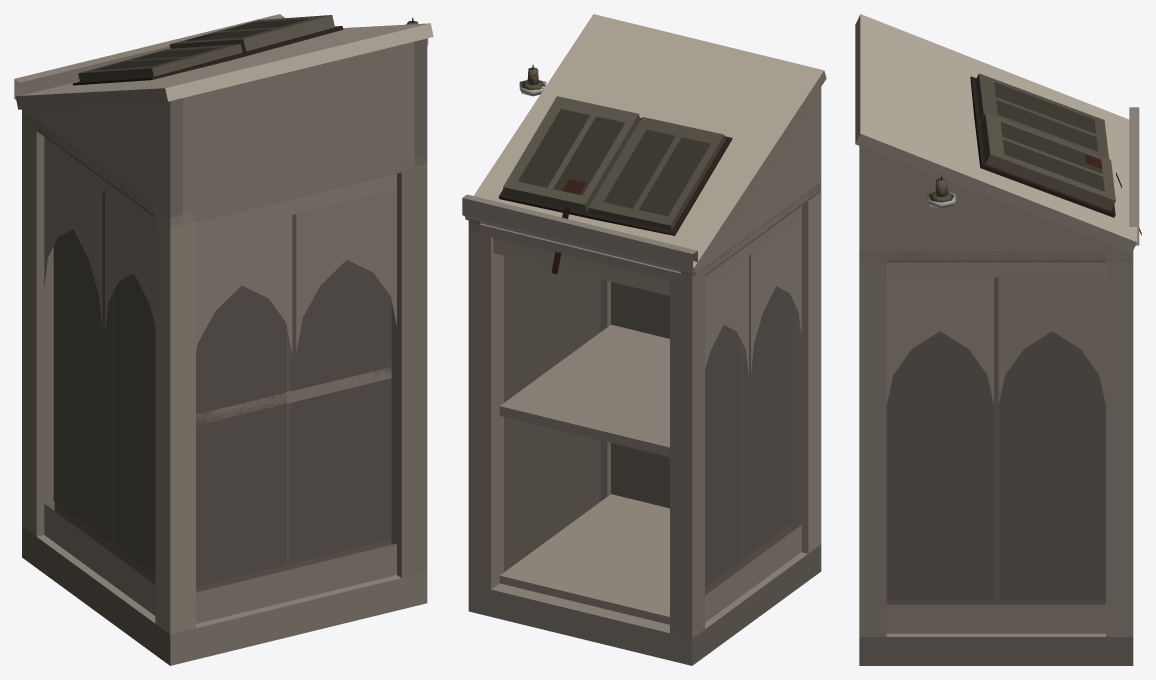
File: prop_lectern.glb
The picture shows the model from 3 angles, left to right: view 1: azimuth 30°, elevation 25°; view 2: azimuth 150°, elevation 25°; view 3: azimuth 270°, elevation 25°; orthographic projection. The views are drawn at different scales.
Visible parts, largest first — view 1: Lectern; view 2: Lectern; view 3: Lectern, LecternSoft.
Boxes of the visible parts, x1,y1,x2,y2 form: Lectern: (14,14,433,665); Lectern: (462,14,826,665); Lectern: (855,14,1141,665); LecternSoft: (927,175,955,208).
Bounding box in the file's own units: 0.716 × 1.29 × 0.6264.
